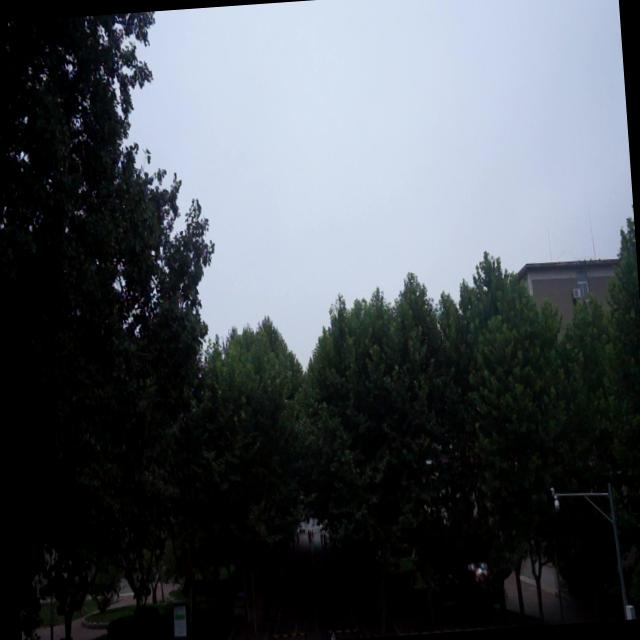drone: (464, 555, 492, 589)
